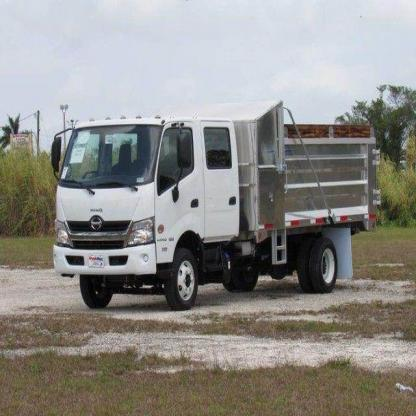dump_truck: (33, 82, 388, 343)
